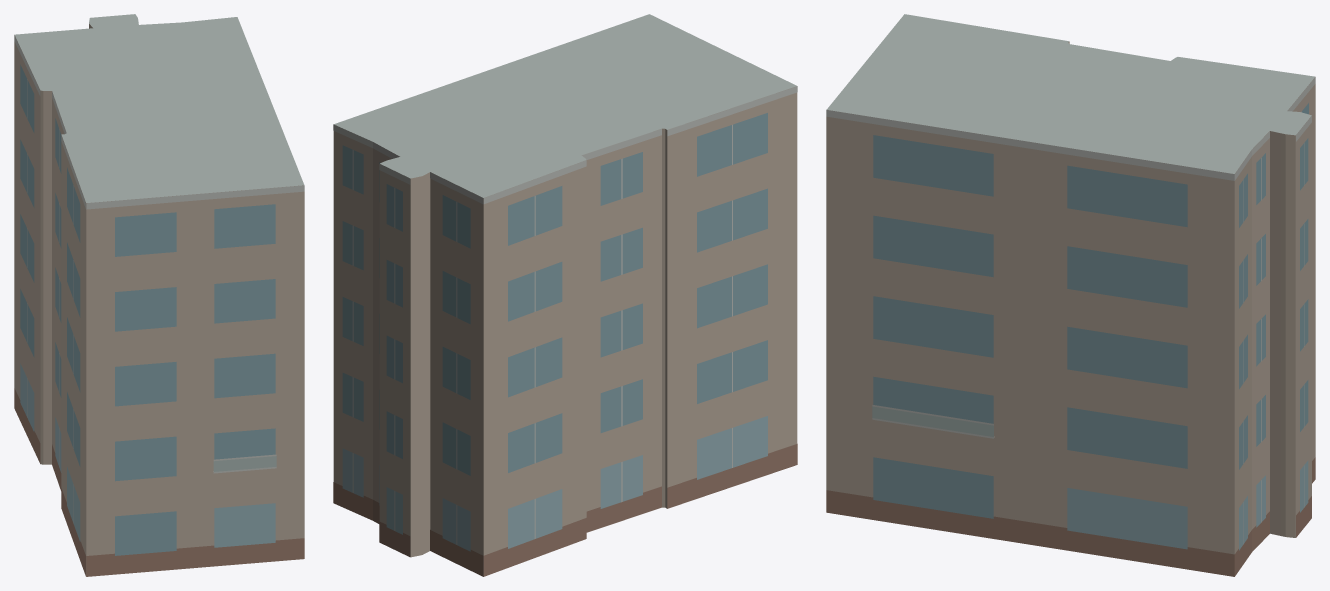
File: survey-upis-32949511.glb
The picture shows the model from 3 angles, left to right: view 1: azimuth 30°, elevation 25°; view 2: azimuth 150°, elevation 25°; view 3: azimuth 270°, elevation 25°; orthographic projection. The views are drawn at different scales.
Visible parts, largest first — view 1: survey-upis-32949511.tmp; view 2: survey-upis-32949511.tmp; view 3: survey-upis-32949511.tmp.
Boxes of the visible parts, box(x1,y1,x2,y2) form: survey-upis-32949511.tmp: box(14, 14, 304, 576); survey-upis-32949511.tmp: box(333, 14, 797, 576); survey-upis-32949511.tmp: box(826, 14, 1315, 576).
Size of the model in its own units: 12.2 by 14.3 by 15.75.
